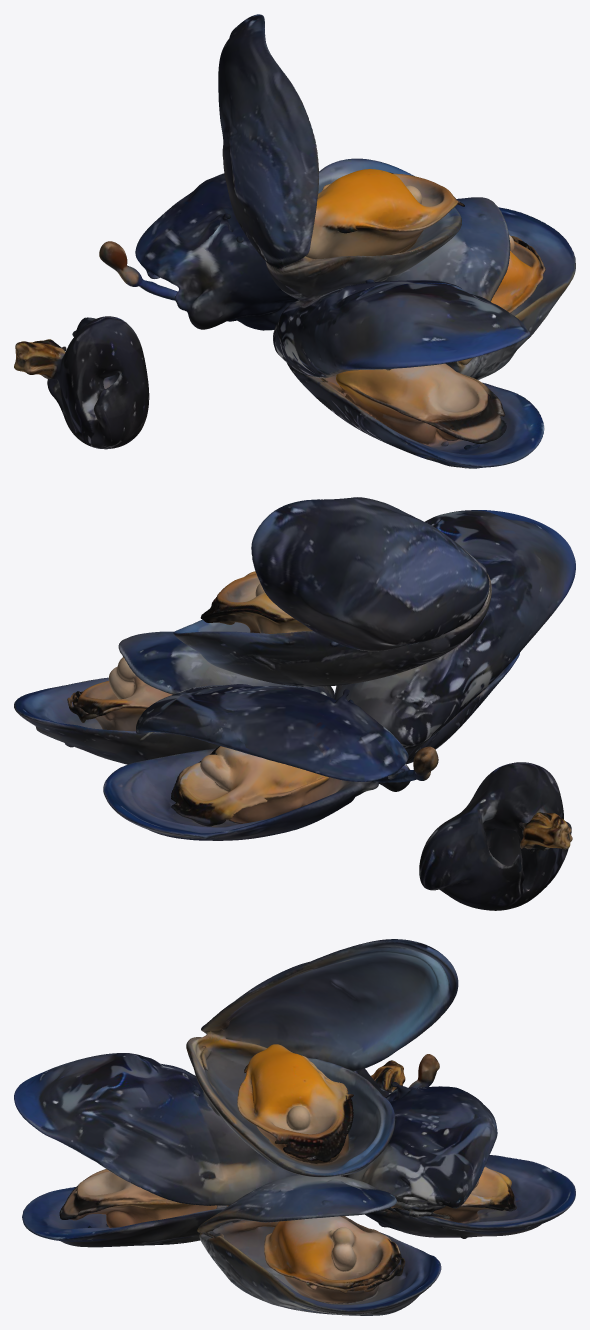
File: mussels_boiled.glb
3 renders of one model, top to bottom at view 1: azimuth 30°, elevation 25°; view 2: azimuth 150°, elevation 25°; view 3: azimuth 270°, elevation 25°, orthographic. The views are drawn at different scales.
Visible parts, largest first — view 1: tripo_node_073c28bb-13e1-43b0-ae2d-f279791185e1; view 2: tripo_node_073c28bb-13e1-43b0-ae2d-f279791185e1; view 3: tripo_node_073c28bb-13e1-43b0-ae2d-f279791185e1.
Boxes of the visible parts, x1,y1,x2,y2 form: tripo_node_073c28bb-13e1-43b0-ae2d-f279791185e1: (14,14,575,468); tripo_node_073c28bb-13e1-43b0-ae2d-f279791185e1: (14,497,575,910); tripo_node_073c28bb-13e1-43b0-ae2d-f279791185e1: (14,939,575,1315).
Bounding box in the file's own units: 0.997 × 0.634 × 0.9999.
1 material, 1 textured.
